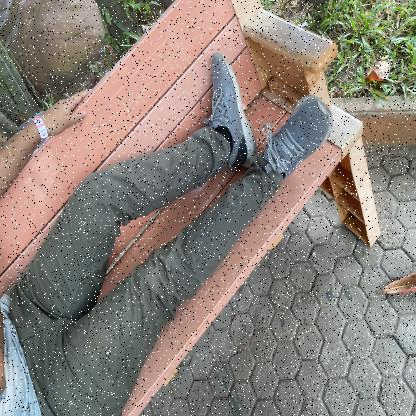hand: (0, 76, 101, 174)
leg: (176, 37, 259, 178), (245, 82, 341, 196)
